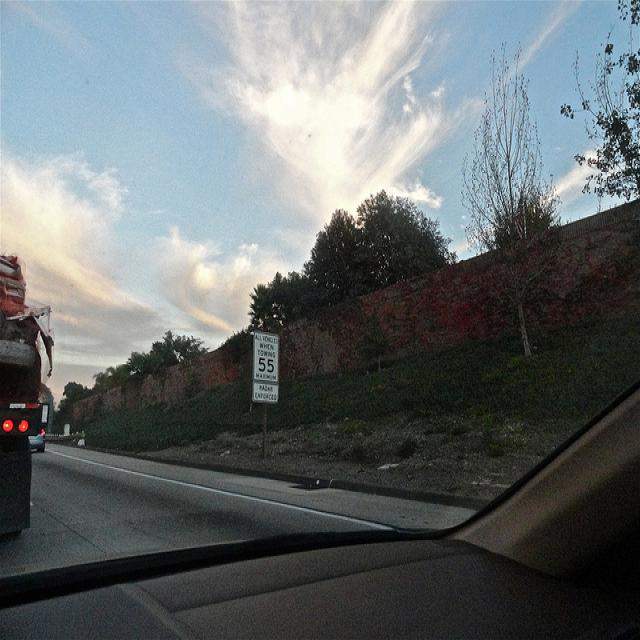Vehicle: (1, 259, 52, 544), (30, 385, 51, 455), (29, 428, 47, 452)
